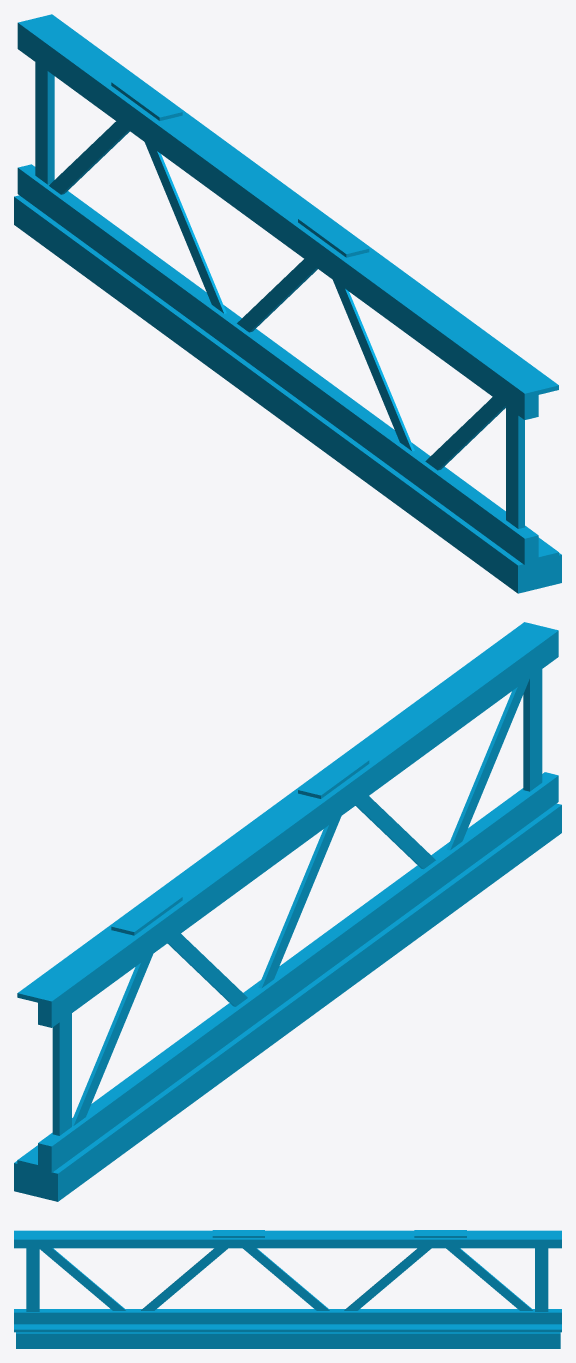
File: Twisted_Metal_07.fbx
3 renders of one model, top to bottom at view 1: azimuth 30°, elevation 25°; view 2: azimuth 150°, elevation 25°; view 3: azimuth 270°, elevation 25°, orthographic. The views are drawn at different scales.
Parts seen in each view (by area): view 1: Twisted_Metal_07; view 2: Twisted_Metal_07; view 3: Twisted_Metal_07.
Part boxes in pixels (bbox=[...]): Twisted_Metal_07: bbox=[14, 14, 561, 593]; Twisted_Metal_07: bbox=[14, 622, 561, 1201]; Twisted_Metal_07: bbox=[14, 1230, 561, 1348].
Size of the model in its own units: 15.06 by 66.68 by 301.
